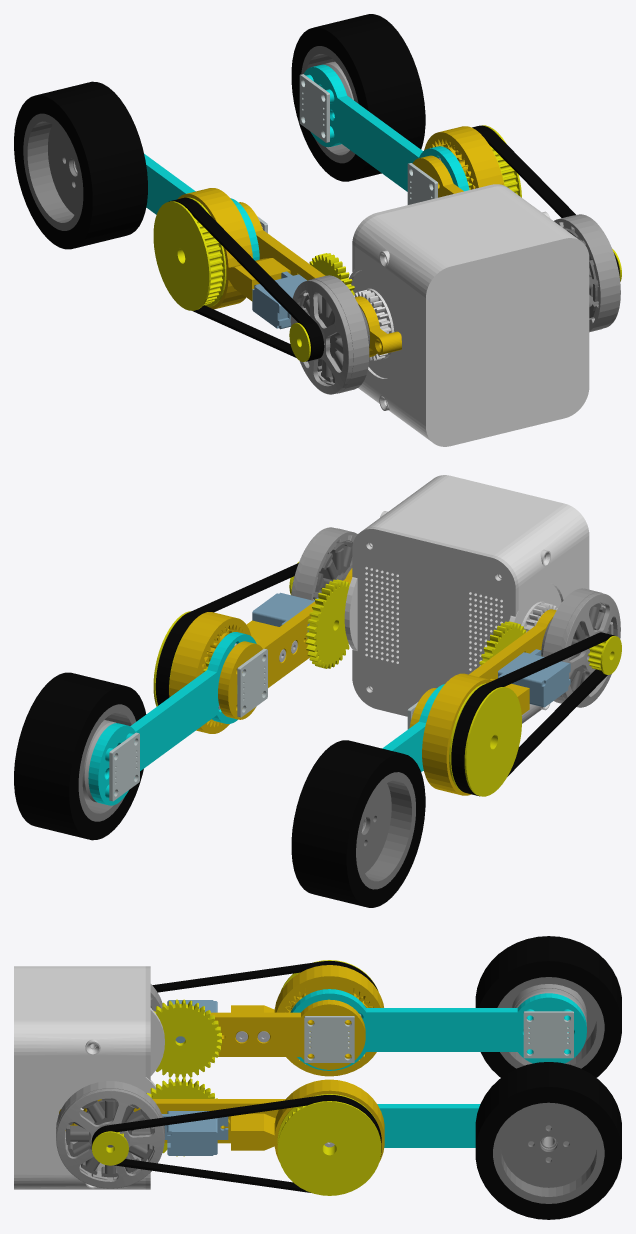
File: ria.glb
The picture shows the model from 3 angles, top to bottom: view 1: azimuth 30°, elevation 25°; view 2: azimuth 150°, elevation 25°; view 3: azimuth 270°, elevation 25°; orthographic projection. The views are drawn at different scales.
Parts seen in each view (by area): view 1: head_top, left_leg/upper_leg/lower_leg/wheel/tire, right_leg/upper_leg/lower_leg/wheel/tire, right_leg/upper_leg/lower_leg/lower_leg, left_leg/upper_leg/pulley, left_leg/upper_leg/lower_leg/wheel/wheel, left_leg/upper_leg/5010/5010_rotor_1, left_leg/upper_leg/belt, left_leg/upper_leg/ring, right_leg/upper_leg/5010/5010_rotor_1, left_leg/upper_leg/upper_leg, right_leg/upper_leg/ring (+12 smaller); view 2: head_bottom, head_top, left_leg/upper_leg/lower_leg/wheel/tire, right_leg/upper_leg/lower_leg/wheel/tire, right_leg/upper_leg/lower_leg/lower_leg, left_leg/upper_leg/lower_leg/wheel/wheel, left_leg/upper_leg/pulley, left_leg/upper_leg/belt, left_leg/upper_leg/ring, right_leg/upper_leg/upper_leg, left_leg/upper_leg/5010/5010_rotor_1, right_leg/upper_leg/ring (+15 smaller); view 3: head_top, right_leg/upper_leg/lower_leg/wheel/tire, left_leg/upper_leg/lower_leg/lower_leg, right_leg/upper_leg/lower_leg/wheel/wheel, left_leg/upper_leg/lower_leg/wheel/tire, right_leg/upper_leg/pulley, left_leg/upper_leg/upper_leg, right_leg/upper_leg/5010/5010_rotor_1, right_leg/upper_leg/lower_leg/lower_leg, right_leg/upper_leg/belt, left_leg/upper_leg/pinion, left_leg/upper_leg/ring (+12 smaller).
Boxes of the visible parts, x1=… form: head_top: x1=349, y1=186, x2=589, y2=446; left_leg/upper_leg/lower_leg/wheel/tire: x1=14, y1=81, x2=147, y2=249; right_leg/upper_leg/lower_leg/wheel/tire: x1=291, y1=14, x2=425, y2=181; right_leg/upper_leg/lower_leg/lower_leg: x1=304, y1=64, x2=469, y2=191; left_leg/upper_leg/pulley: x1=153, y1=197, x2=226, y2=310; left_leg/upper_leg/lower_leg/wheel/wheel: x1=23, y1=113, x2=83, y2=230; left_leg/upper_leg/5010/5010_rotor_1: x1=290, y1=275, x2=369, y2=394; left_leg/upper_leg/belt: x1=169, y1=197, x2=324, y2=361; left_leg/upper_leg/ring: x1=177, y1=188, x2=290, y2=309; right_leg/upper_leg/5010/5010_rotor_1: x1=554, y1=214, x2=620, y2=332; left_leg/upper_leg/upper_leg: x1=238, y1=202, x2=393, y2=357; right_leg/upper_leg/ring: x1=424, y1=126, x2=504, y2=189; head_bottom: x1=352, y1=527, x2=518, y2=716; head_top: x1=344, y1=475, x2=589, y2=723; left_leg/upper_leg/lower_leg/wheel/tire: x1=291, y1=740, x2=425, y2=907; right_leg/upper_leg/lower_leg/wheel/tire: x1=14, y1=672, x2=146, y2=840; right_leg/upper_leg/lower_leg/lower_leg: x1=88, y1=632, x2=256, y2=805; left_leg/upper_leg/lower_leg/wheel/wheel: x1=356, y1=772, x2=415, y2=889; left_leg/upper_leg/pulley: x1=449, y1=683, x2=521, y2=796; left_leg/upper_leg/belt: x1=451, y1=632, x2=614, y2=796; left_leg/upper_leg/ring: x1=422, y1=673, x2=529, y2=795; right_leg/upper_leg/upper_leg: x1=218, y1=568, x2=352, y2=719; left_leg/upper_leg/5010/5010_rotor_1: x1=542, y1=588, x2=620, y2=707; right_leg/upper_leg/ring: x1=169, y1=612, x2=279, y2=733; head_top: x1=14, y1=966, x2=164, y2=1189; right_leg/upper_leg/lower_leg/wheel/tire: x1=475, y1=1062, x2=621, y2=1219; left_leg/upper_leg/lower_leg/lower_leg: x1=290, y1=989, x2=586, y2=1070; right_leg/upper_leg/lower_leg/wheel/wheel: x1=493, y1=1102, x2=604, y2=1203; left_leg/upper_leg/lower_leg/wheel/tire: x1=475, y1=936, x2=621, y2=1077; right_leg/upper_leg/pulley: x1=277, y1=1094, x2=381, y2=1195; left_leg/upper_leg/upper_leg: x1=210, y1=999, x2=365, y2=1069; right_leg/upper_leg/5010/5010_rotor_1: x1=56, y1=1081, x2=164, y2=1188; right_leg/upper_leg/lower_leg/lower_leg: x1=377, y1=1104, x2=480, y2=1147; right_leg/upper_leg/belt: x1=91, y1=1095, x2=381, y2=1192; left_leg/upper_leg/pinion: x1=154, y1=999, x2=221, y2=1077; left_leg/upper_leg/ring: x1=231, y1=965, x2=383, y2=1076.
Size of the model in its own units: 0.1628 by 0.084 by 0.2774.
